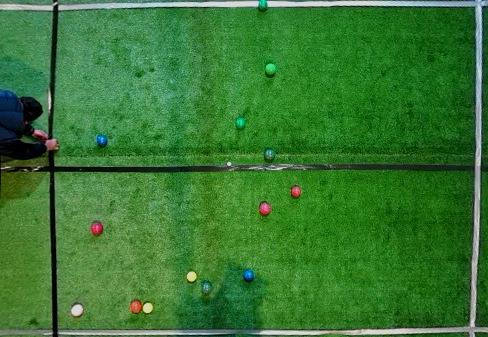blue: (244, 270, 254, 281), (97, 135, 107, 146)
green: (265, 63, 277, 75), (201, 281, 212, 294), (235, 117, 246, 129), (264, 149, 275, 160), (257, 1, 268, 10)
red: (71, 304, 84, 317), (259, 202, 271, 215), (91, 222, 103, 235), (130, 300, 141, 314), (291, 186, 301, 197)
vline: (1, 151, 59, 336), (1, 1, 58, 139), (467, 1, 487, 336)
white: (227, 162, 232, 166)
yellow: (142, 302, 154, 313), (187, 271, 197, 282)
